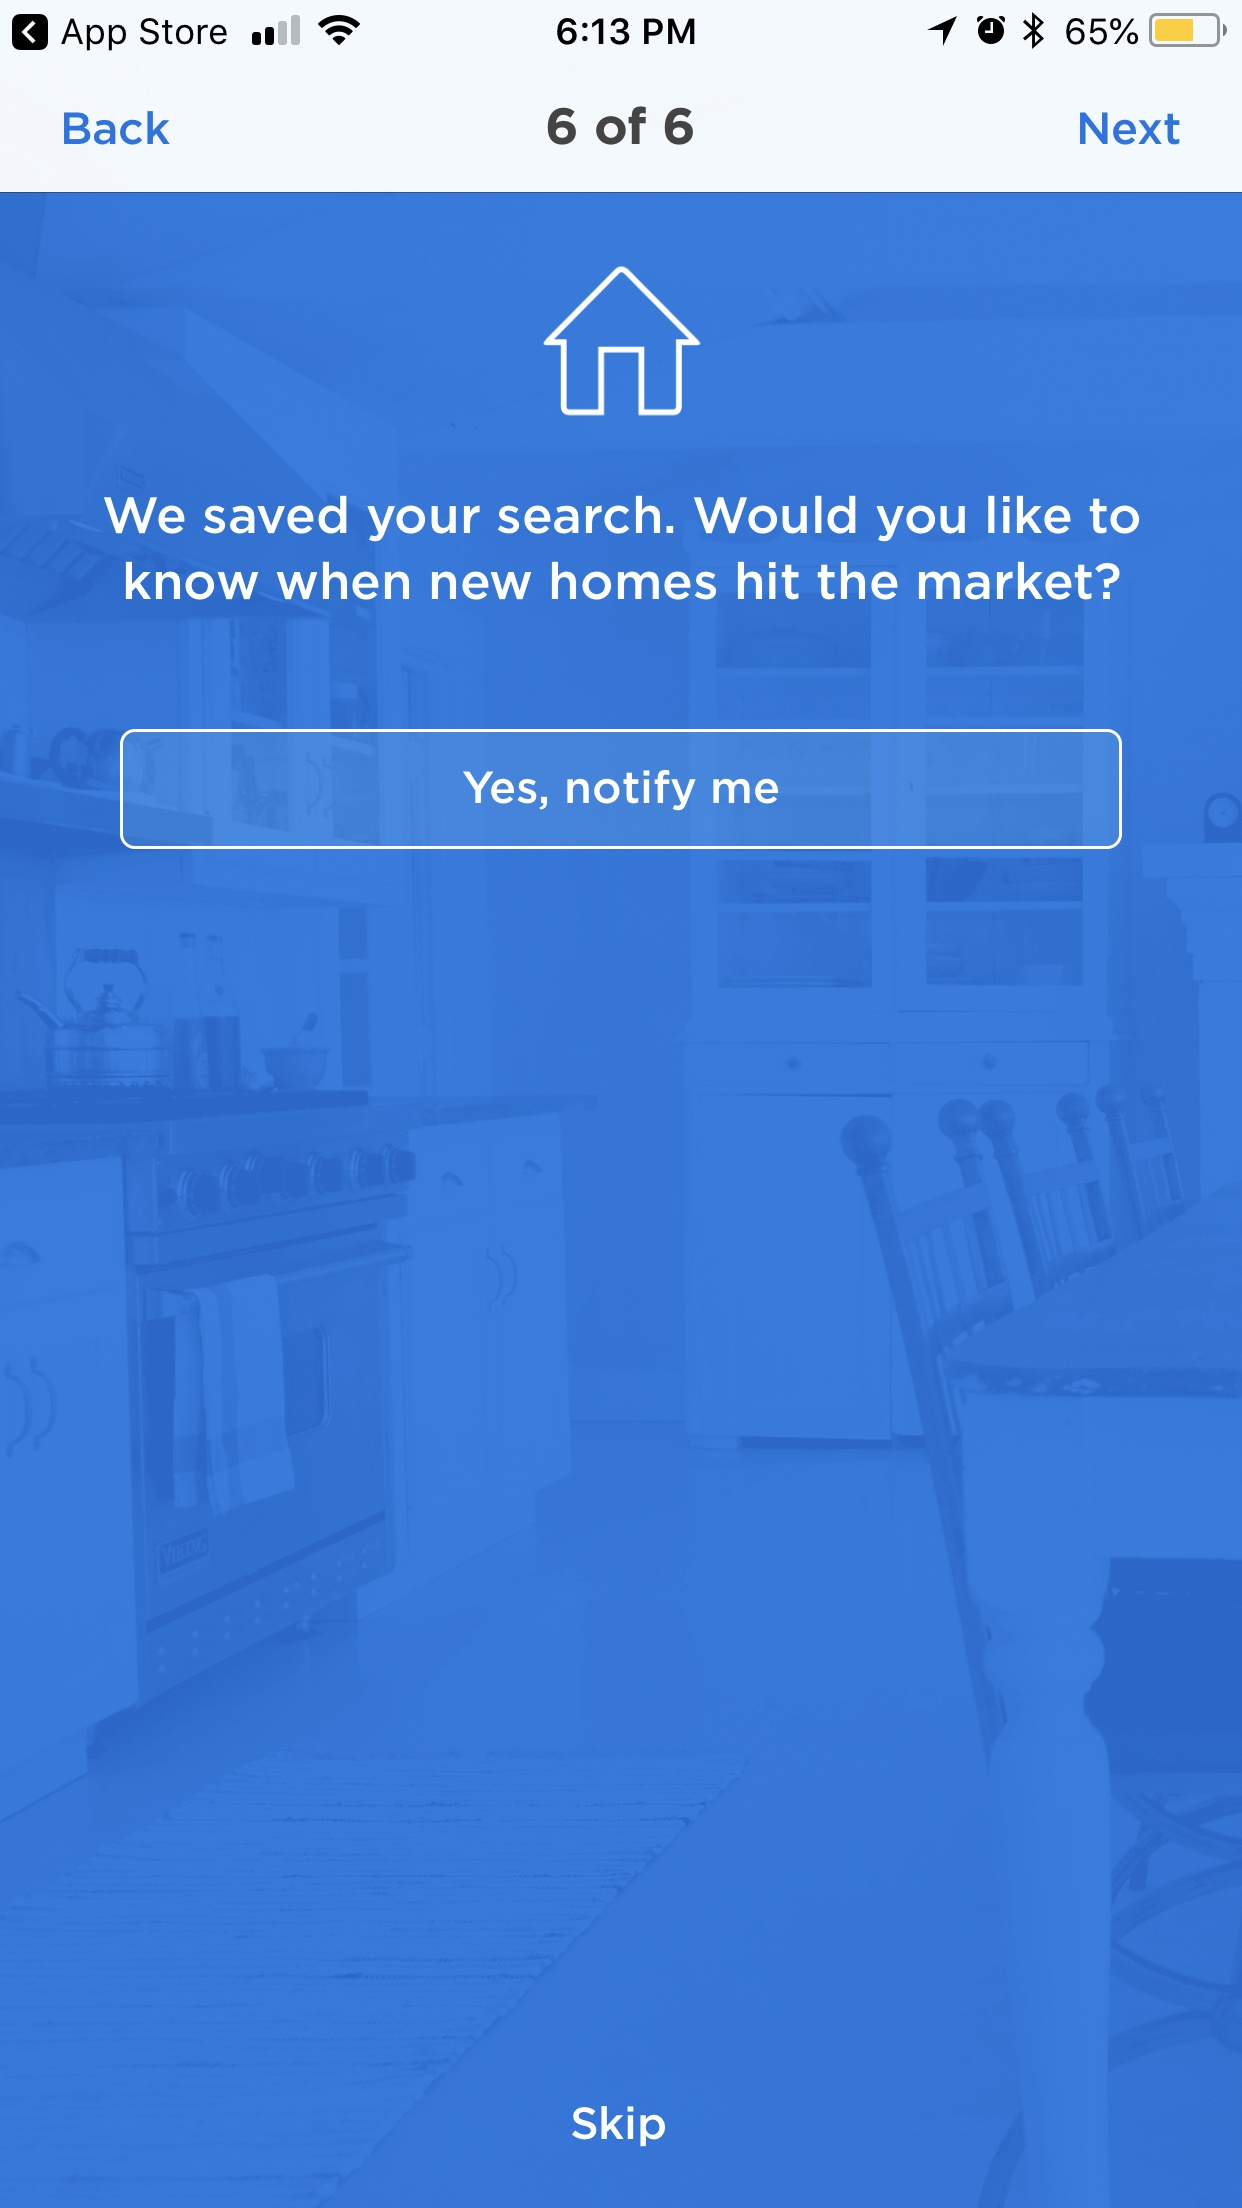BackgroundImage: (2, 193, 1242, 2208)
Icon: (543, 267, 702, 419)
Text: (105, 494, 1140, 601), (547, 106, 695, 146), (572, 2105, 666, 2147), (65, 112, 171, 147), (1080, 112, 1180, 147)
TextButton: (120, 729, 1124, 851)
UpperTaskBar: (2, 2, 1242, 49)
